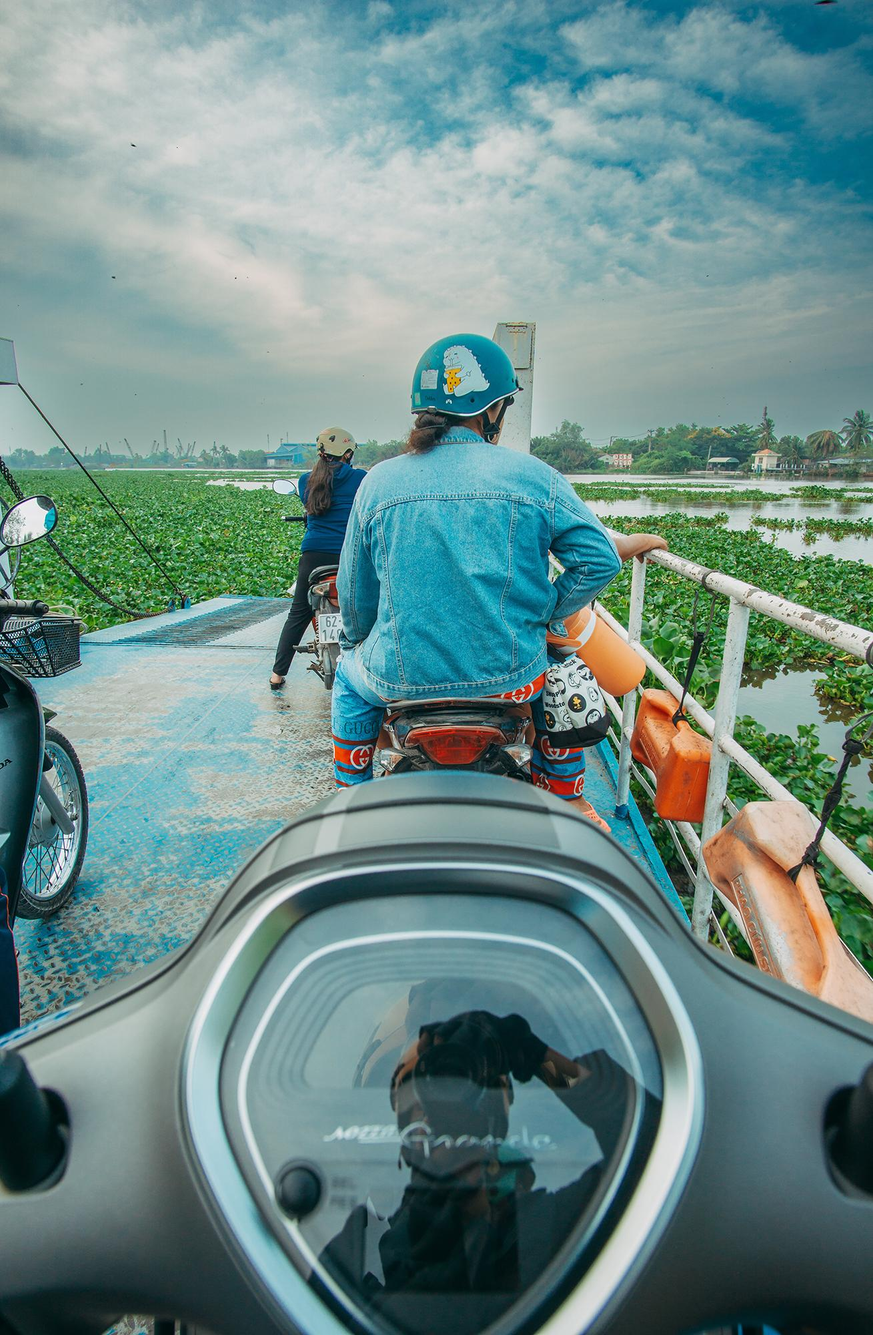helmet: (410, 332, 525, 447), (315, 426, 361, 473)
